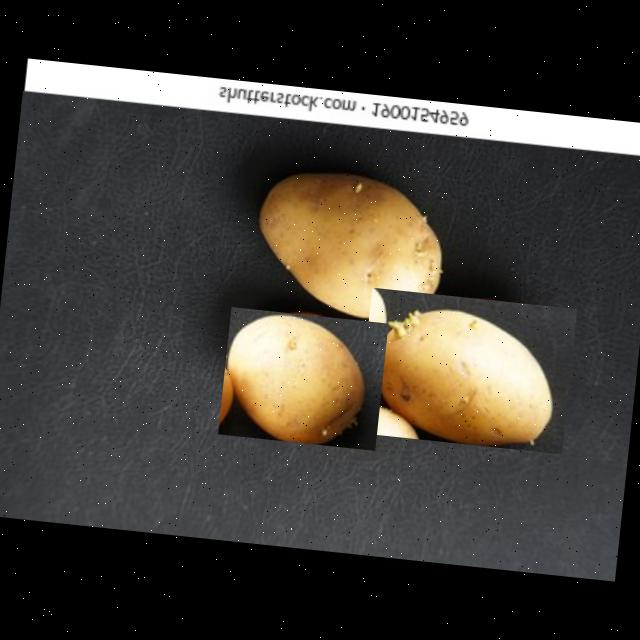Potato: (218, 306, 388, 451)
Sprouted potato: (223, 147, 482, 340), (356, 287, 576, 454)
